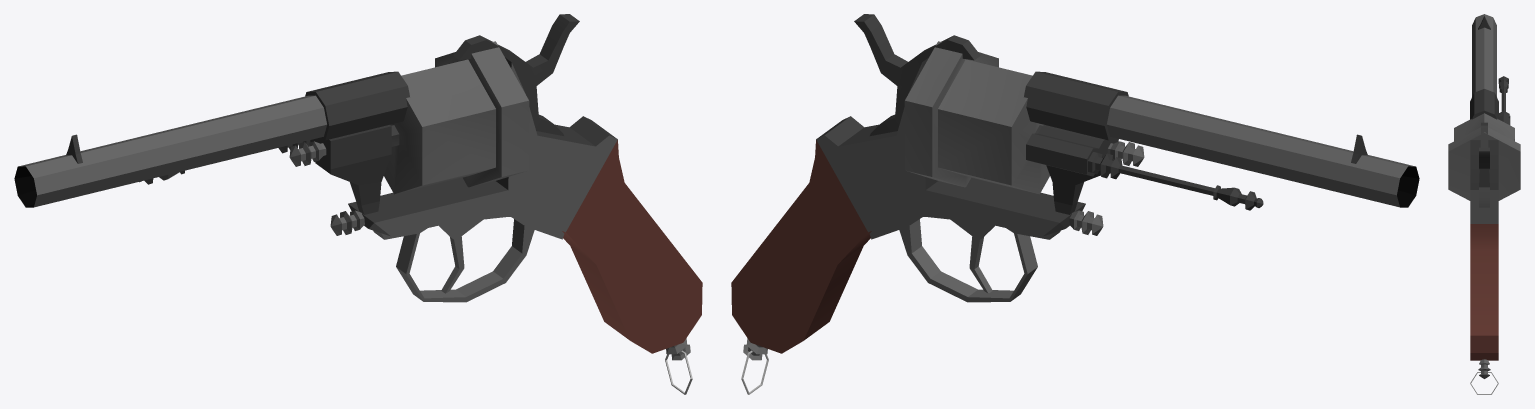
File: low poly gun.fbx
3 views of the same model, side by side, from view 1: azimuth 30°, elevation 25°; view 2: azimuth 150°, elevation 25°; view 3: azimuth 270°, elevation 25° (orthographic). The views are drawn at different scales.
Visible parts, largest first — view 1: Cylinder.002; view 2: Cylinder.002; view 3: Cylinder.002.
Boxes of the visible parts, x1,y1,x2,y2 form: Cylinder.002: (14, 14, 702, 394); Cylinder.002: (731, 14, 1419, 394); Cylinder.002: (1448, 14, 1520, 394).
Bounding box in the file's own units: 200 × 116 × 34.85.
1 material, 1 textured.
